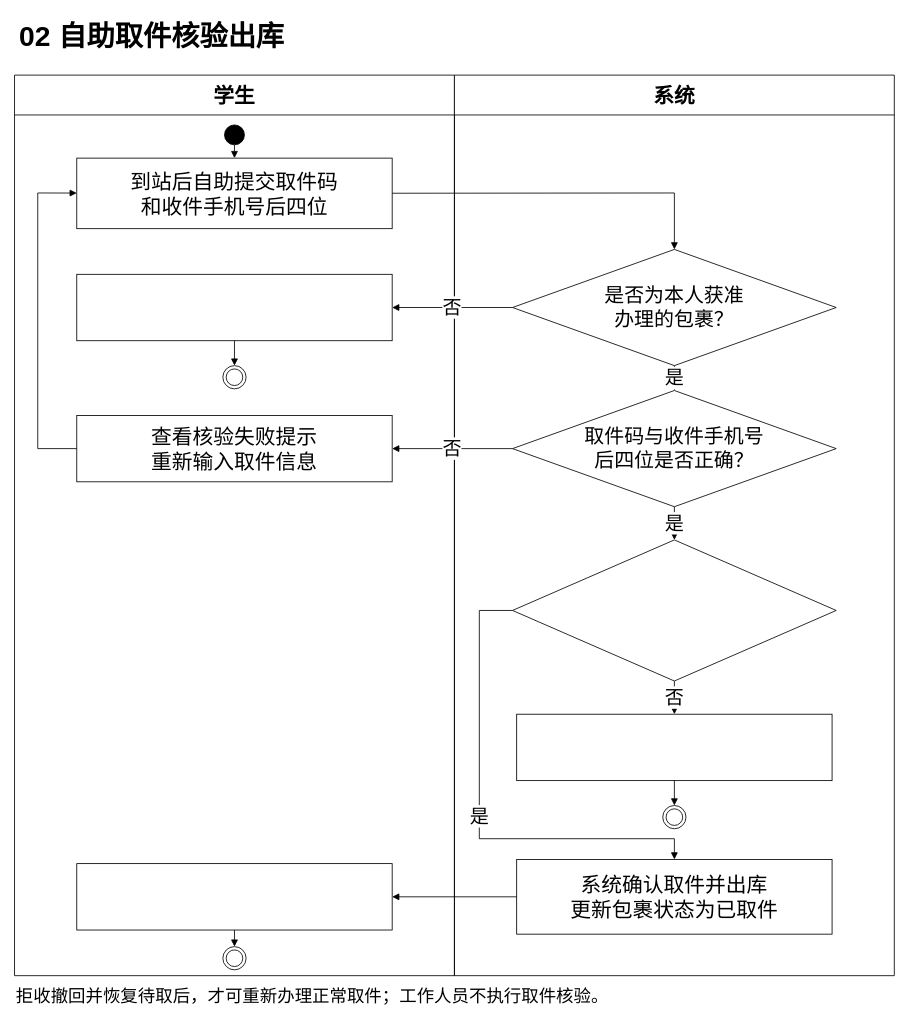
This 909x1027 diagram has some shape labels left out. Here are the shapes that lost their labels. From the top down, the centre of each, then its label:
pixel 234 307: 查看无办理权限提示 本次未完成出库
pixel 674 610: 是否允许取件？ 未取件且未拒收暂停 未进入退件流程
pixel 674 747: 提示当前不可取件原因 不完成出库
pixel 234 896: 取走包裹，取件完成
